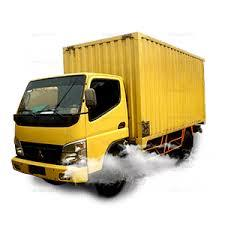truck: (9, 64, 147, 201)
